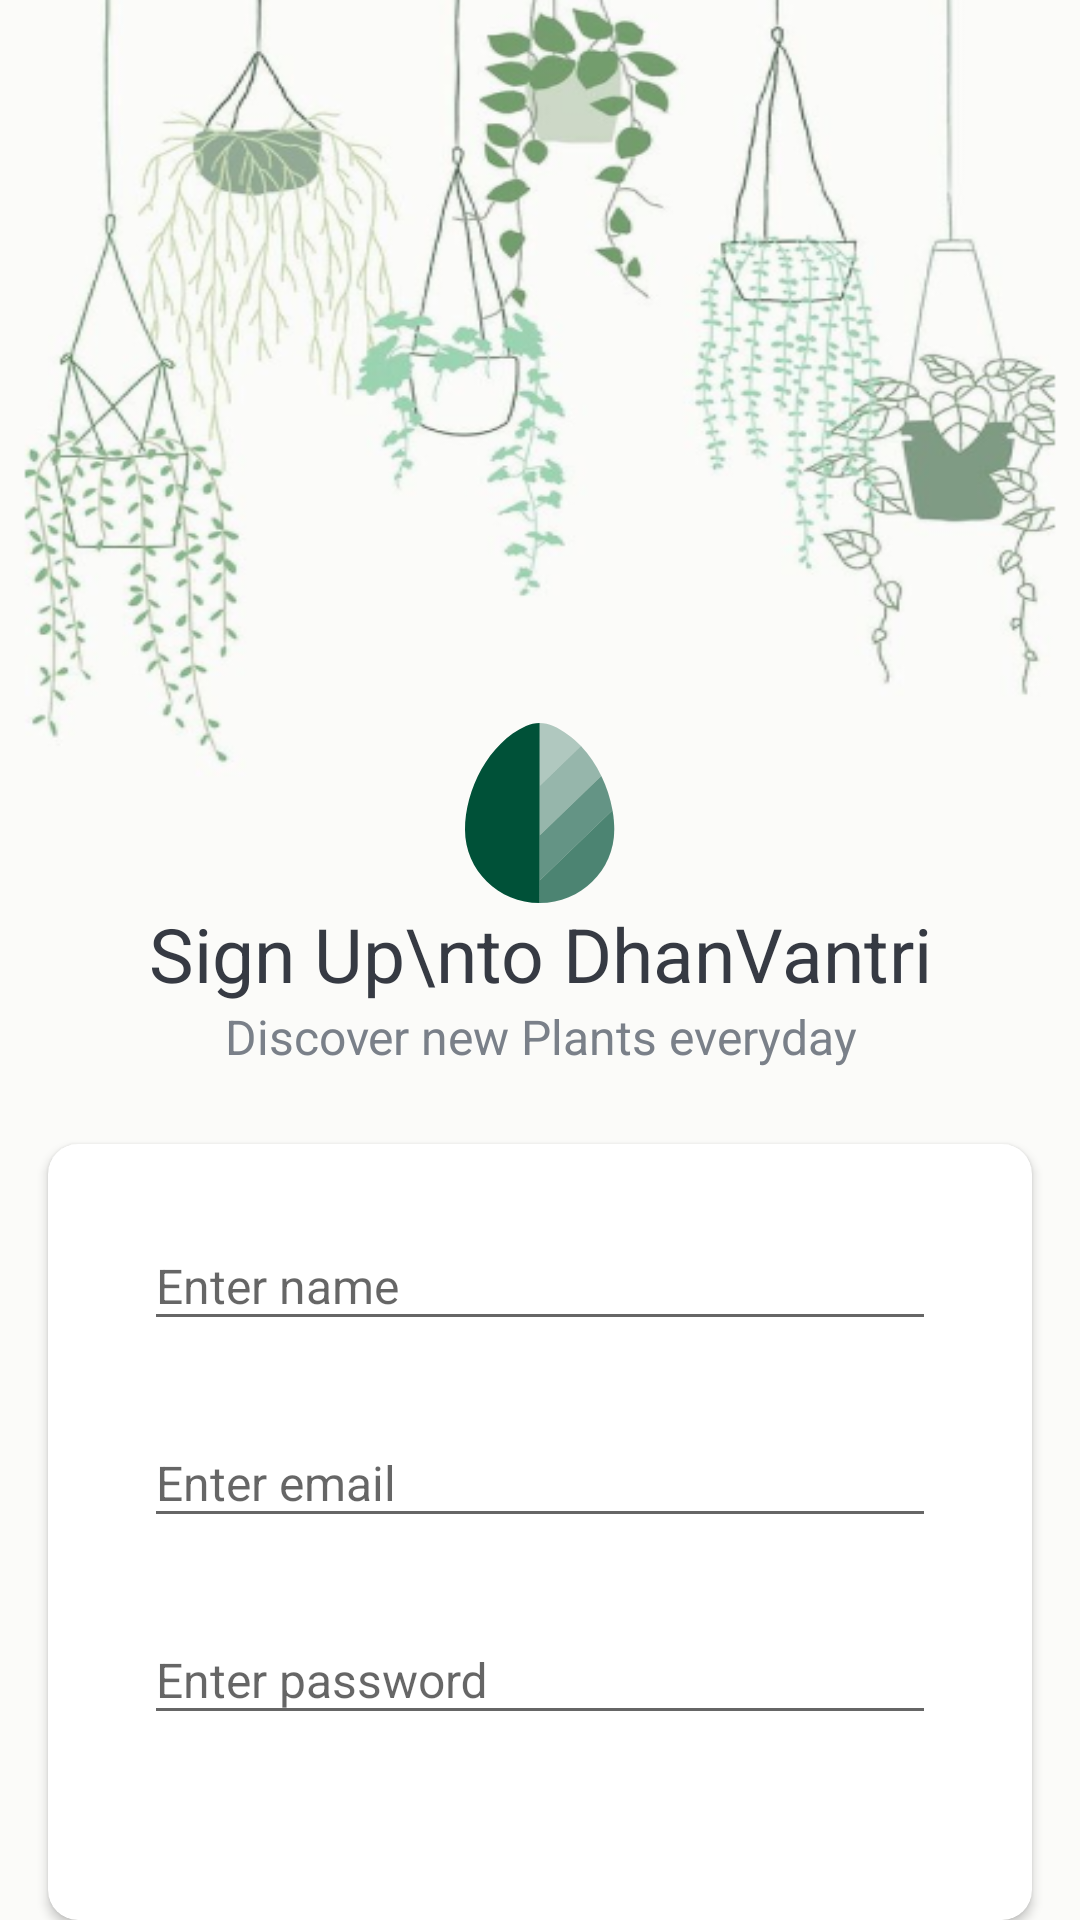

Locate icon controls on the screen. Image size 1080x1920, boxes as (x1, y1, x2, y2).
singleleaf: (465, 723, 615, 903)
